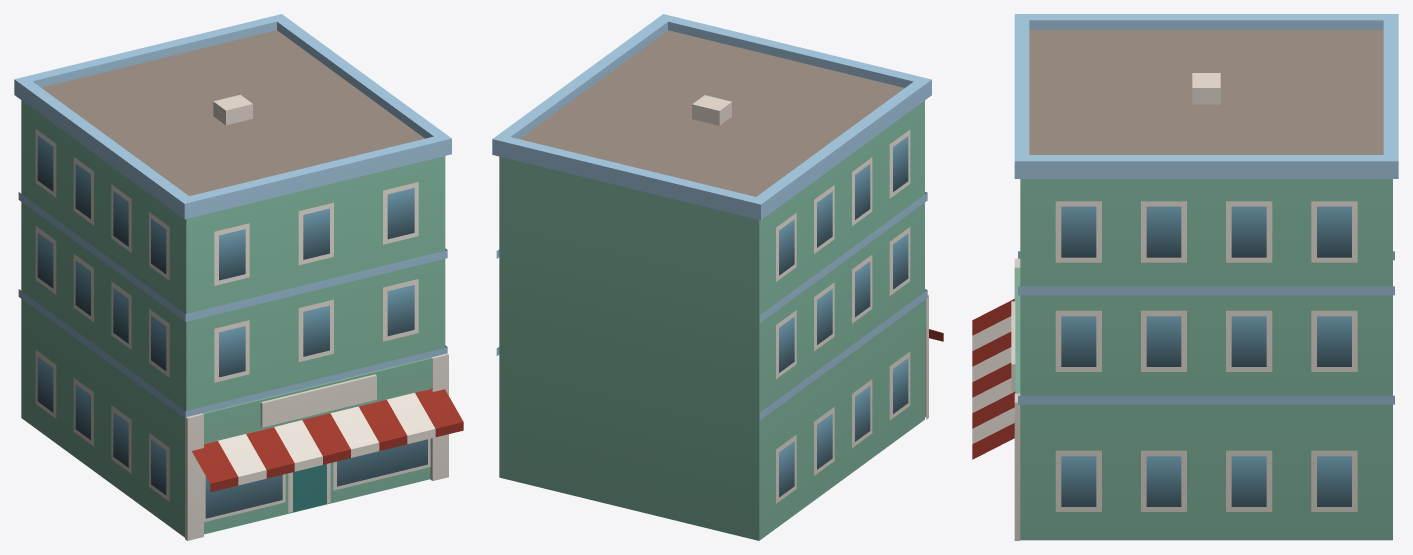
File: tremont_e1_far.glb
The picture shows the model from 3 angles, left to right: view 1: azimuth 30°, elevation 25°; view 2: azimuth 150°, elevation 25°; view 3: azimuth 270°, elevation 25°; orthographic projection. The views are drawn at different scales.
Visible parts, largest first — view 1: tremont_e1_far; view 2: tremont_e1_far; view 3: tremont_e1_far.
Part boxes in pixels (left/top/right/bottom): tremont_e1_far: left=14, top=14, right=463, bottom=540; tremont_e1_far: left=492, top=14, right=943, bottom=540; tremont_e1_far: left=972, top=14, right=1398, bottom=540.
Size of the model in its own units: 9.82 by 12.07 by 12.01.
Materials: 1 (1 with a texture image).
